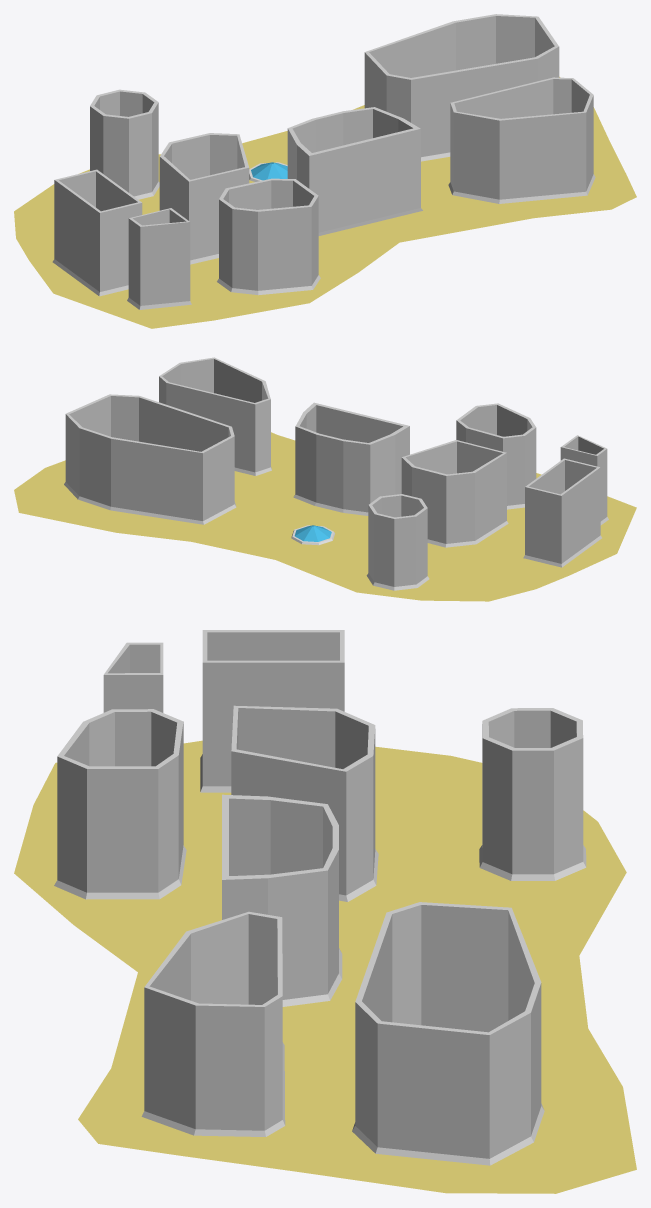
Rendered from wuhu_town_v1.fbx.
3 views of the same model, one above another, from view 1: azimuth 30°, elevation 25°; view 2: azimuth 150°, elevation 25°; view 3: azimuth 270°, elevation 25° (orthographic). The views are drawn at different scales.
Parts seen in each view (by area): view 1: Plane, Building.008, Building.002, Building.006, Building.007, Building.003, Building.004, Building.001, Building.005, Fountain; view 2: Plane, Building.002, Building.006, Building.004, Building.008, Building.003, Building.001, Building.007, Building.005, Fountain; view 3: Plane, Building.002, Building.008, Building.007, Building.006, Building.001, Building.004, Building.003, Building.005.
Boxes of the visible parts, x1,y1,x2,y2 form: Plane: (14,77,636,328); Building.008: (448,77,595,203); Building.002: (364,14,559,161); Building.006: (287,107,422,235); Building.007: (217,178,320,295); Building.003: (52,169,142,296); Building.004: (159,133,249,264); Building.001: (90,89,159,199); Building.005: (127,208,191,309); Fountain: (249,162,287,181); Plane: (14,432,636,601); Building.002: (64,394,236,524); Building.006: (293,402,409,515); Building.004: (401,440,508,547); Building.008: (159,357,271,475); Building.003: (523,458,601,567); Building.001: (366,494,429,590); Building.007: (456,403,536,509); Building.005: (560,435,608,525); Fountain: (291,525,334,545); Plane: (14,740,636,1193); Building.002: (352,902,544,1165); Building.008: (141,911,285,1136); Building.007: (54,709,186,899); Building.006: (222,794,342,1006); Building.001: (479,708,586,880); Building.004: (231,705,378,901); Building.003: (200,630,344,792); Building.005: (103,642,163,712).
Size of the model in its own units: 2390 by 326 by 1369.
